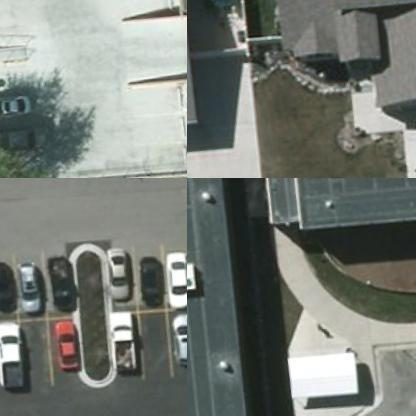car: (0, 311, 37, 383), (0, 120, 58, 159), (46, 240, 82, 300), (16, 248, 52, 308), (104, 235, 140, 294), (55, 310, 91, 369), (136, 240, 172, 298), (113, 304, 149, 362), (0, 80, 43, 120), (0, 250, 29, 309), (165, 239, 186, 299), (172, 300, 186, 359)
